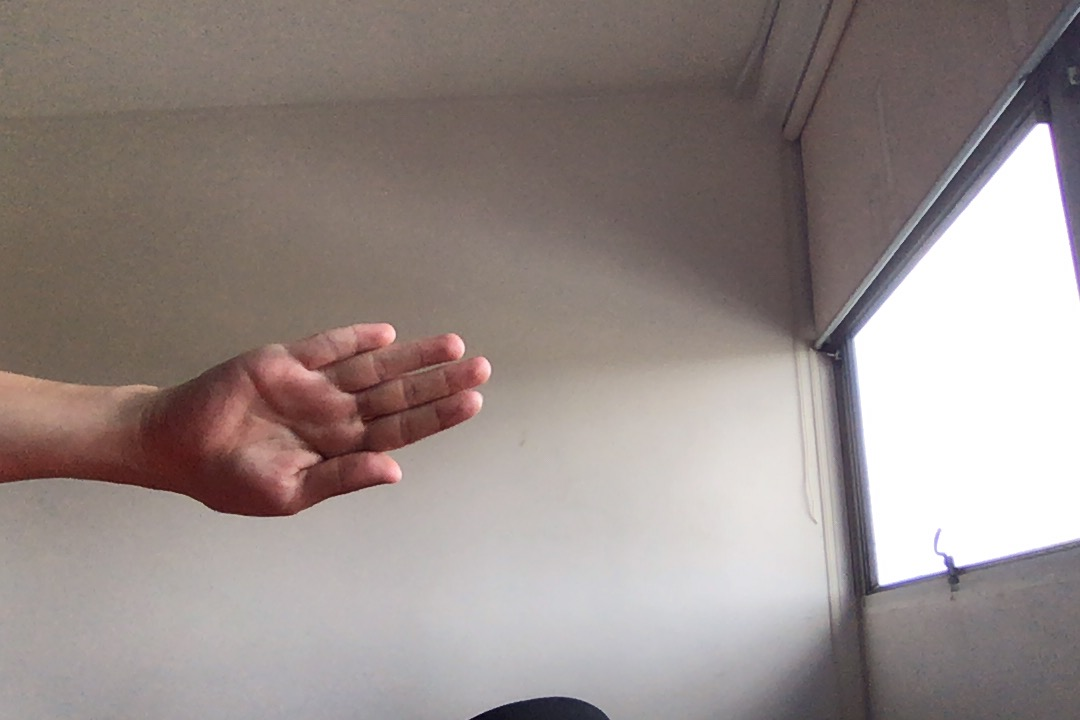palmhand: (167, 314, 494, 520)
